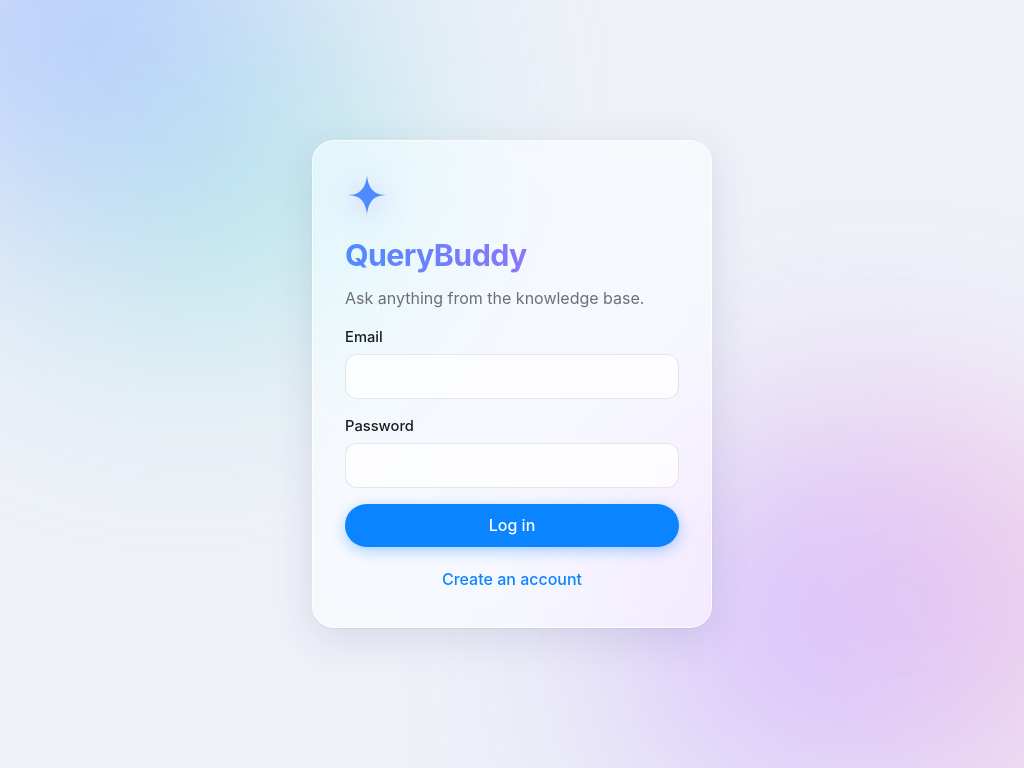
it: LoginPage › shows server error and keeps inputs
In the field labelled "Email": x=512, y=377 [345,354,679,399], type "amy@example.com"
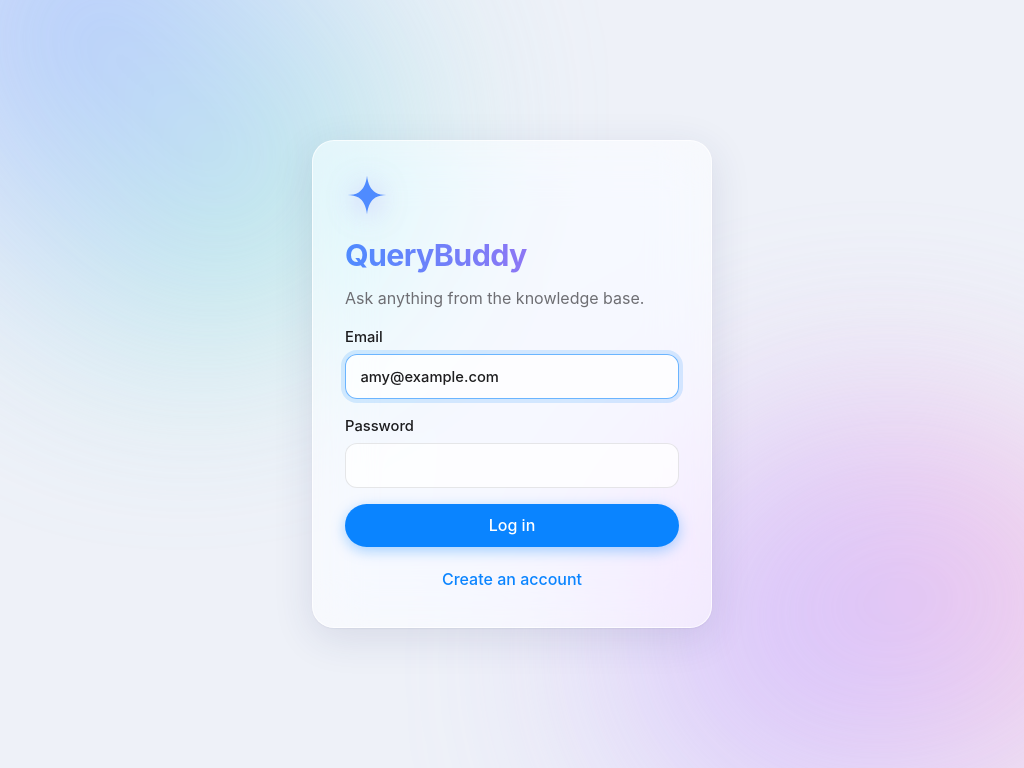
In the password field labelled "Password": x=512, y=465 [345,443,679,488], type "wrongpass1"
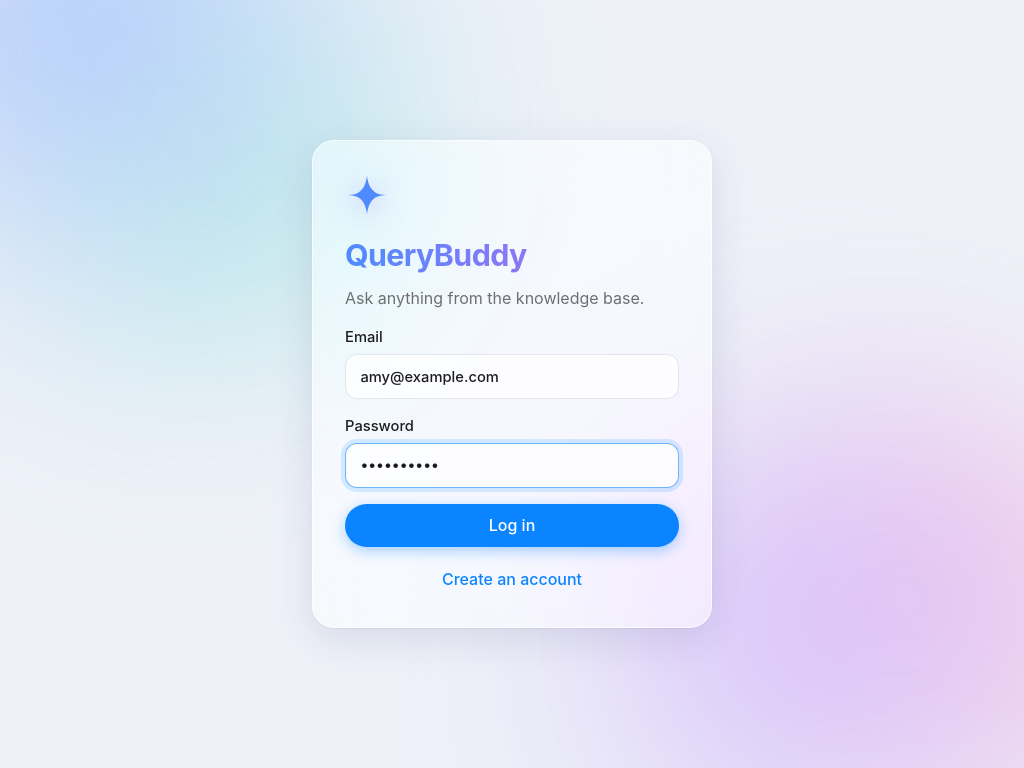
Click the button "Log in": x=512, y=525 [345,504,679,547]
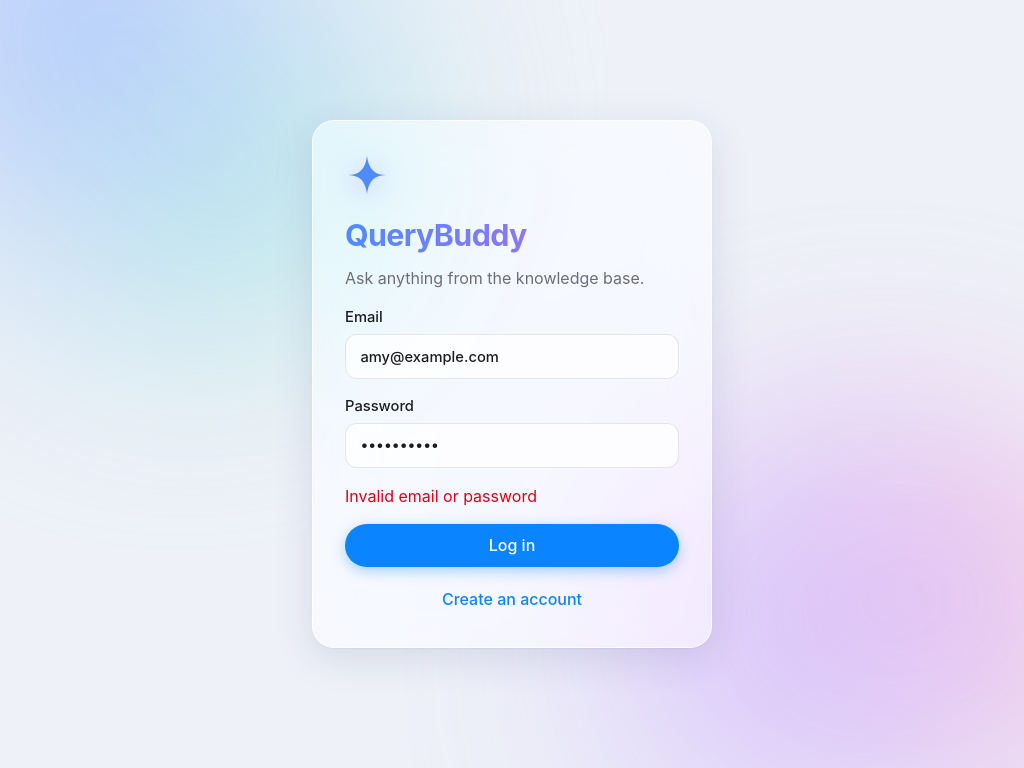
Check: the message reads "Invalid email or password", box [345,486,537,506]
